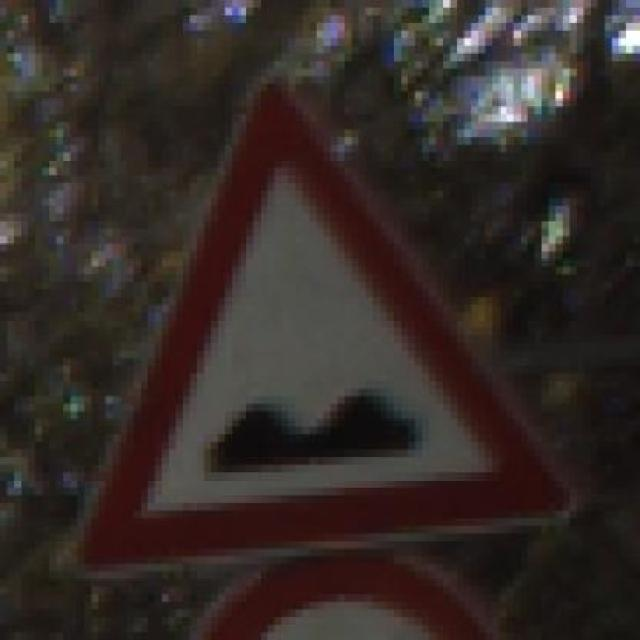Uneven Road: (77, 76, 591, 587)
